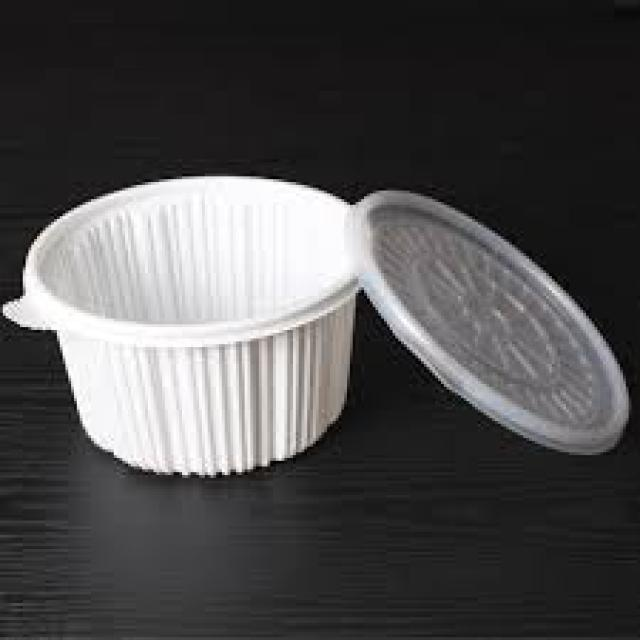disposable: (8, 168, 417, 480)
